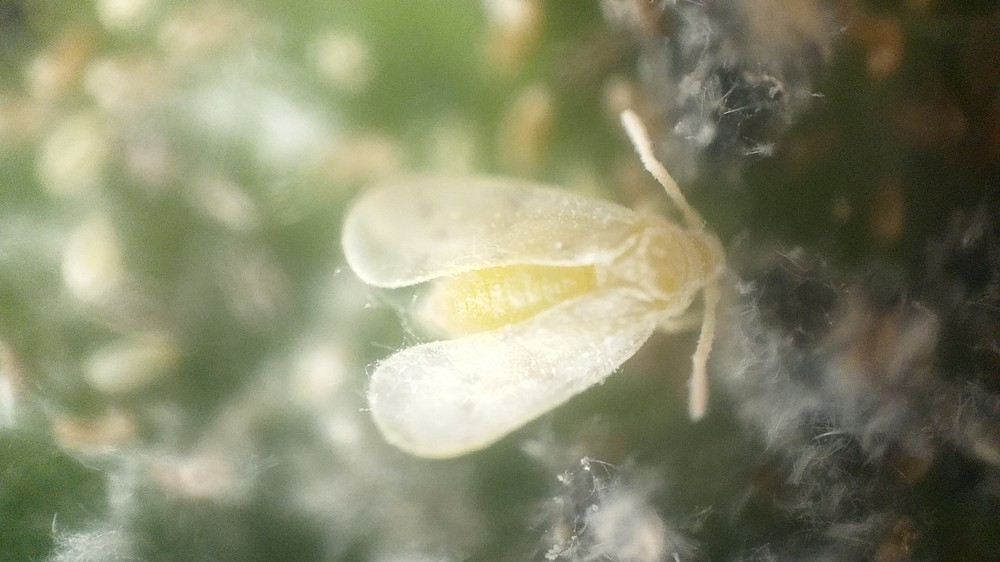Mosca Blanca: (313, 98, 770, 474)
